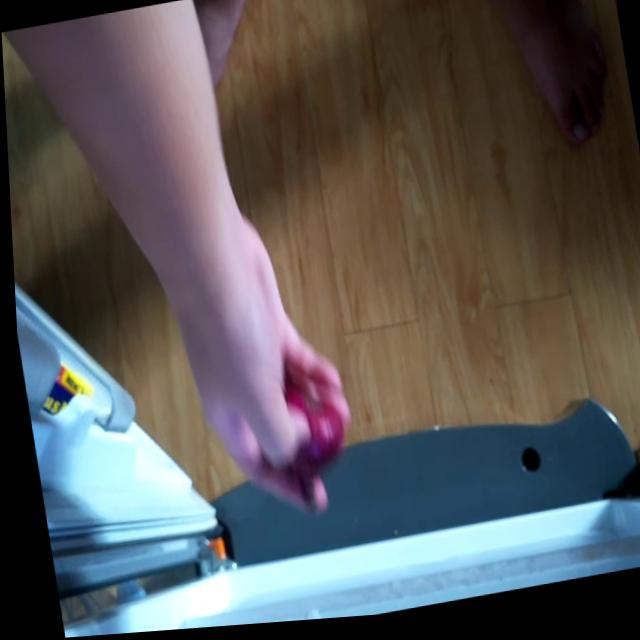onion: (266, 386, 342, 517)
